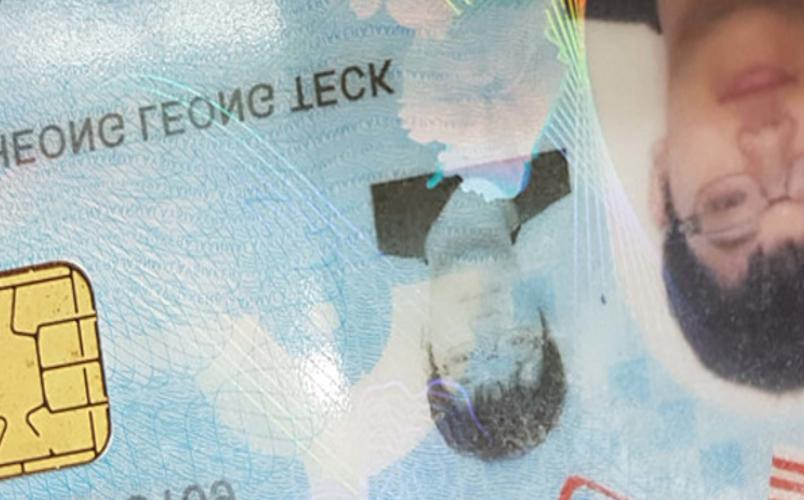hologramB: (399, 1, 559, 149)
